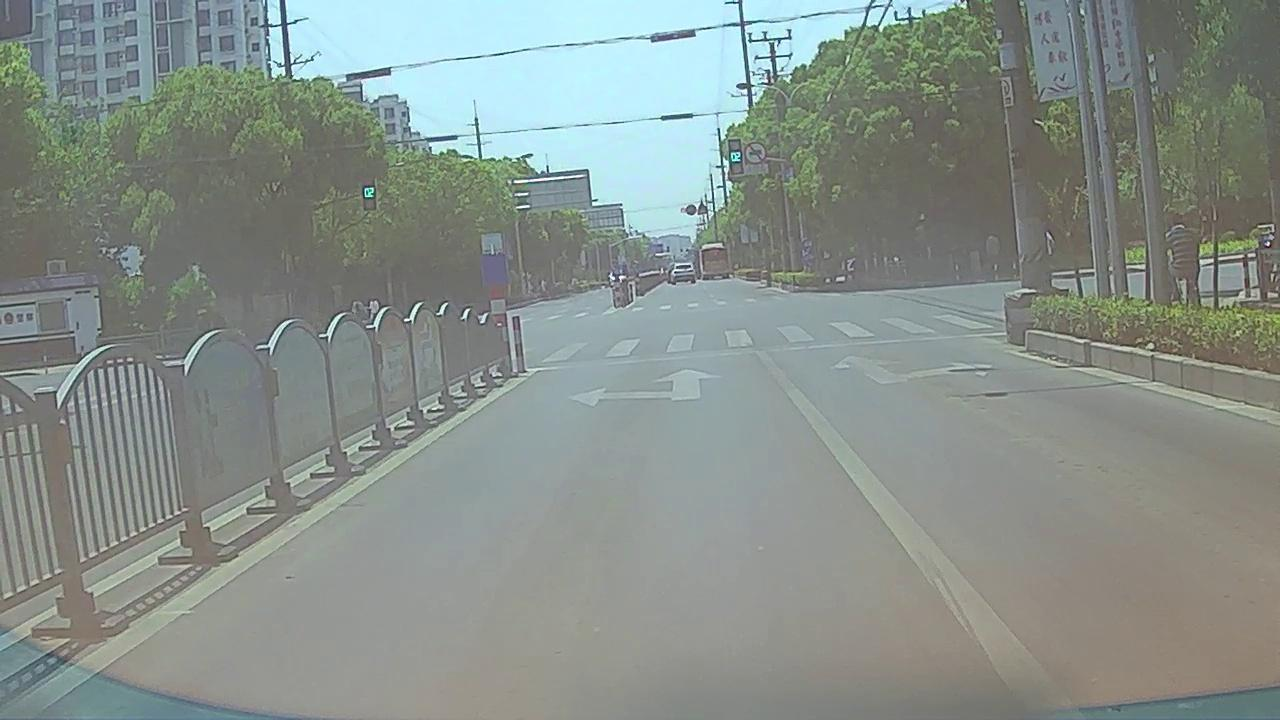traffic_light: (729, 139, 743, 175)
